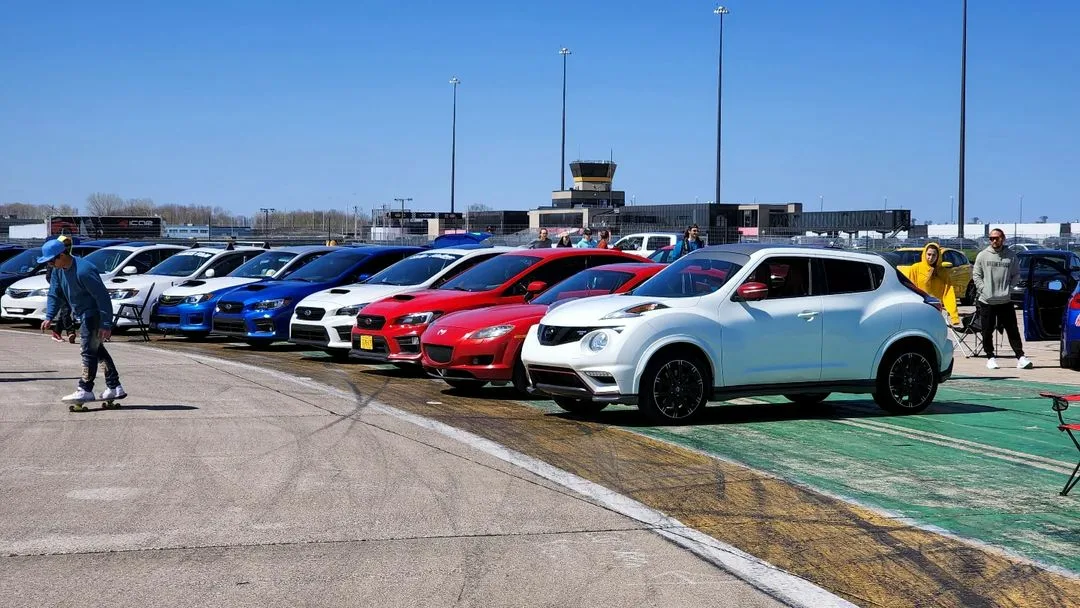Car: (521, 244, 955, 424), (350, 247, 648, 367), (418, 261, 669, 393), (211, 232, 495, 346), (289, 247, 514, 358), (149, 244, 341, 338), (0, 242, 192, 328), (103, 241, 288, 324), (1023, 256, 1080, 370), (0, 243, 105, 296), (893, 247, 977, 306), (1011, 249, 1080, 308), (607, 232, 684, 257), (0, 242, 29, 266), (647, 245, 677, 264), (79, 239, 135, 247), (1008, 243, 1045, 253), (827, 236, 845, 247)
